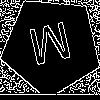M: (26, 21, 76, 75)
